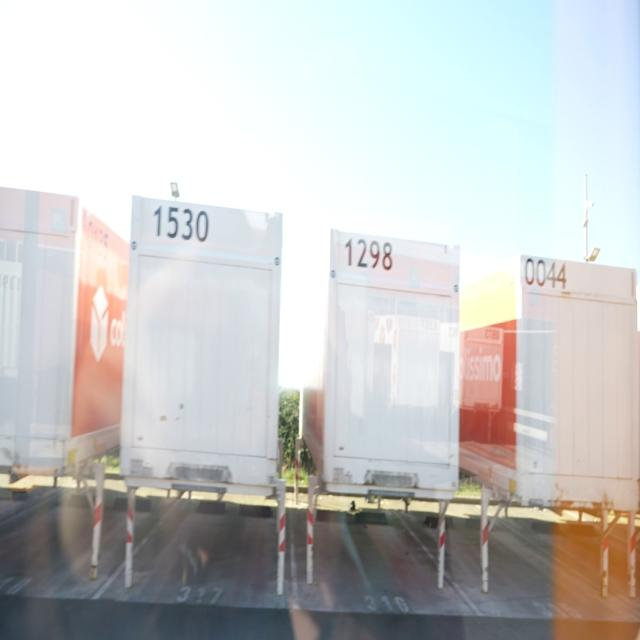Code: (150, 197, 216, 246), (522, 249, 574, 300), (342, 232, 398, 277)
